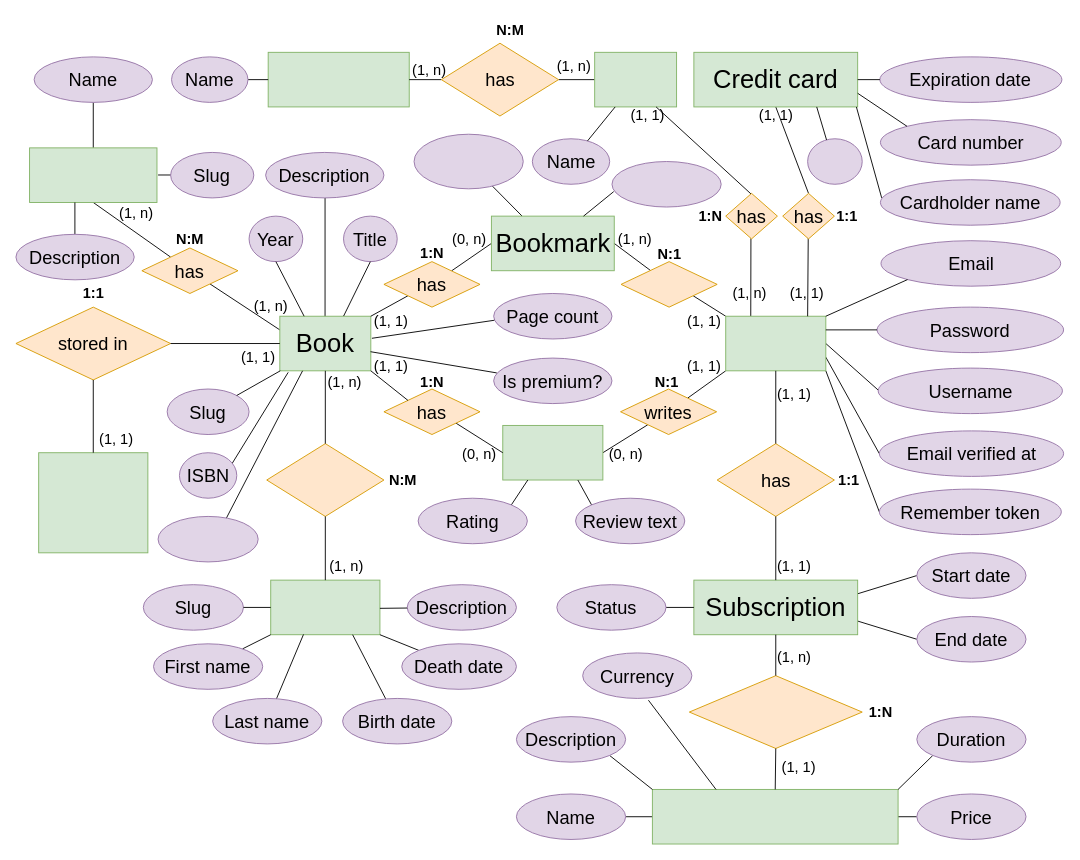
The diagram is 1080 pixels wide and 860 high, and some of its shapes have lost their labels. The shapes that lost their labels are listed below. From the top down, each one's centre as x and y in pixels, then its label:
At [338,79]: "Securable".
At [635,79]: "Role".
At [93,174]: "Genre".
At [468,161]: "Page number".
At [834,161]: "CVC".
At [666,184]: "Is favorite?".
At [668,284]: "uses".
At [775,343]: "User".
At [552,452]: "Review".
At [325,479]: "written by".
At [93,502]: "Media (generated by spatie/ laravel-medialibrary )".
At [207,539]: "Language".
At [325,607]: "Author".
At [775,711]: "associated with".
At [774,816]: "Subscription Plan".
